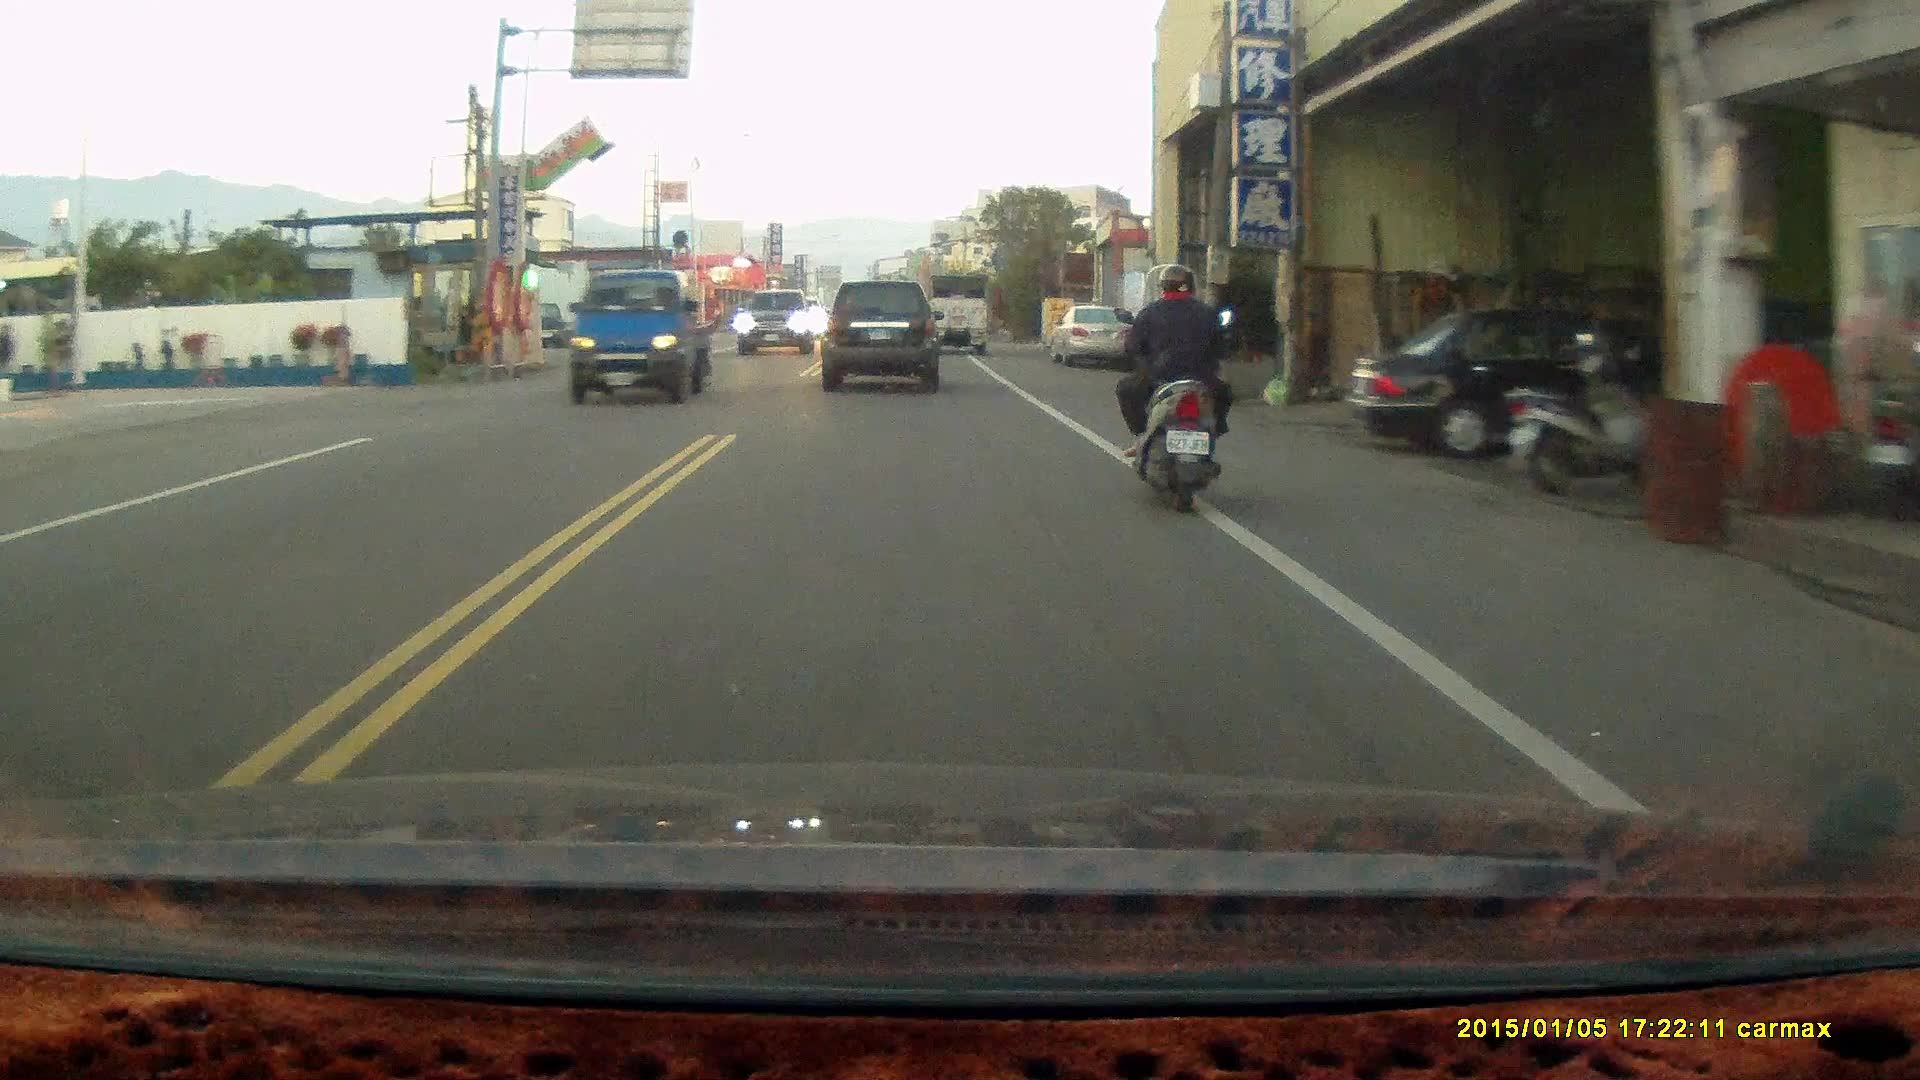rider: (1110, 262, 1233, 515)
vehicle: (1344, 298, 1700, 458), (564, 267, 718, 402), (824, 279, 942, 390), (1043, 301, 1140, 364), (923, 273, 991, 357), (739, 288, 819, 354)
